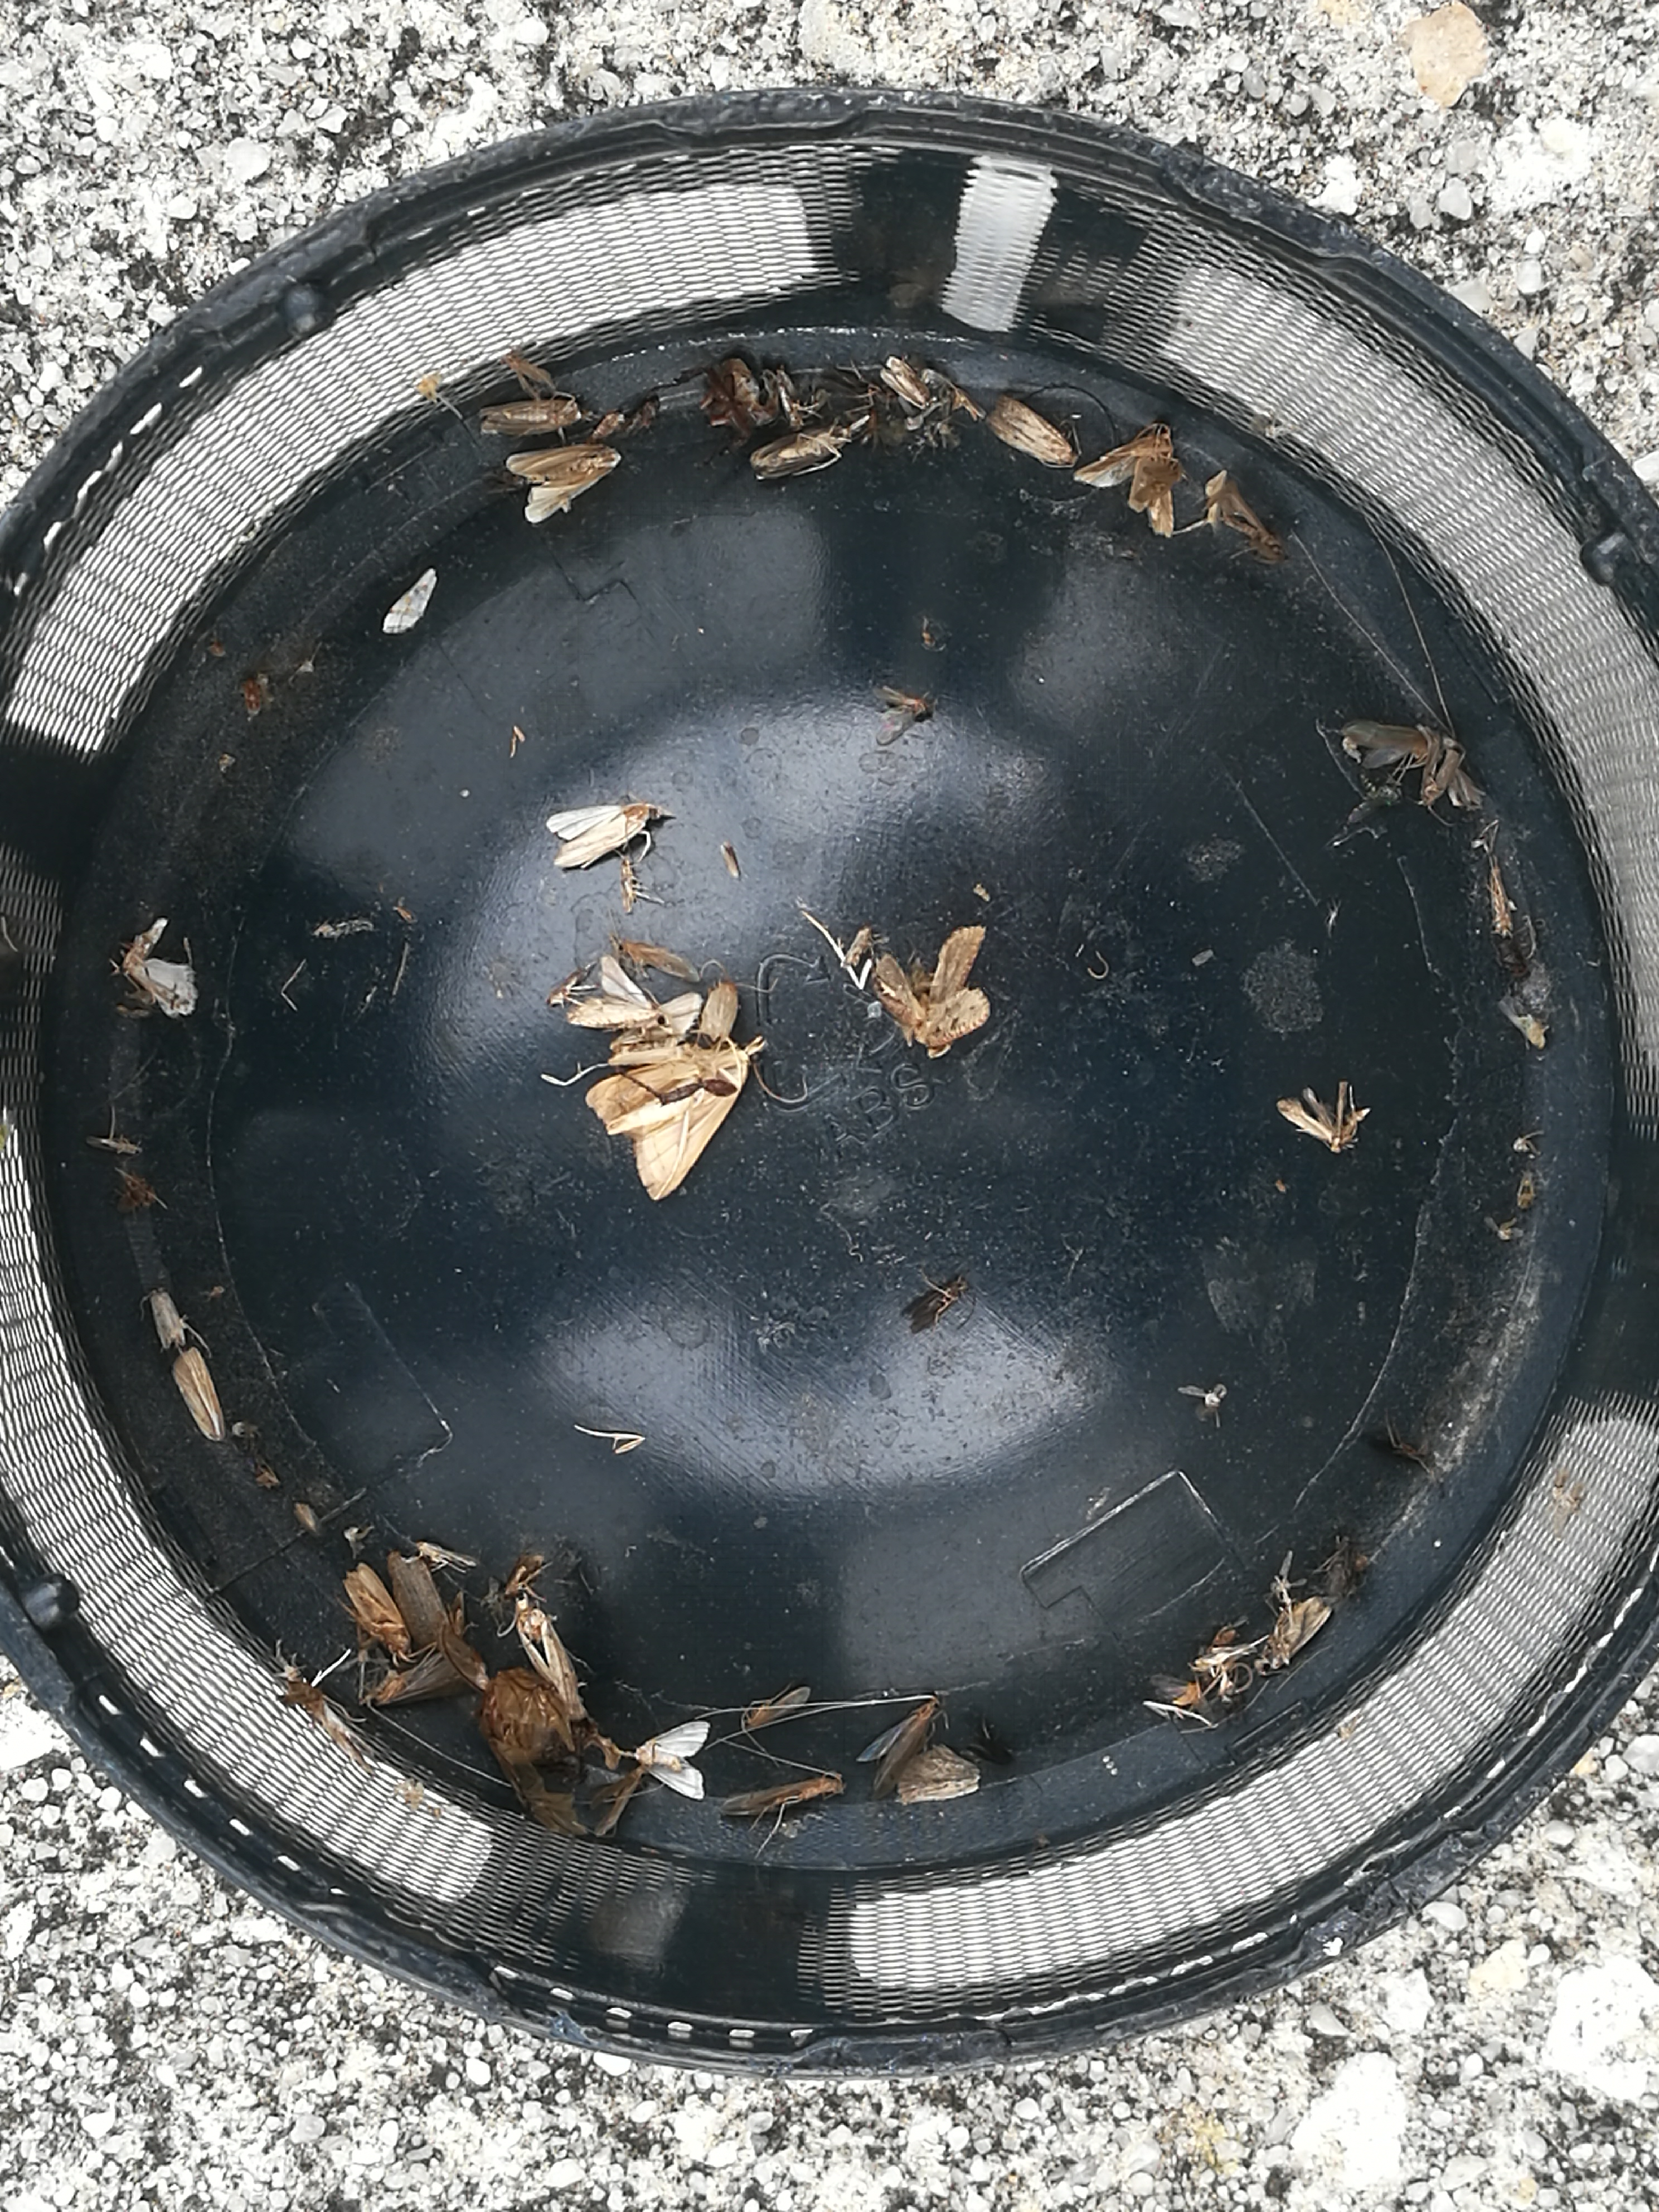mosquito: (512, 1604, 587, 1717), (863, 1696, 945, 1794), (343, 1559, 408, 1658), (721, 1773, 840, 1822), (751, 421, 854, 477), (1256, 1601, 1330, 1676), (1347, 721, 1455, 768), (361, 1669, 467, 1714), (479, 395, 580, 430), (742, 1684, 807, 1730), (148, 1282, 181, 1346), (415, 1545, 477, 1562)
moth: (589, 1047, 749, 1200), (878, 928, 992, 1045), (1077, 420, 1171, 535), (507, 446, 622, 521), (549, 805, 655, 869), (565, 954, 662, 1024), (636, 1719, 709, 1803)
